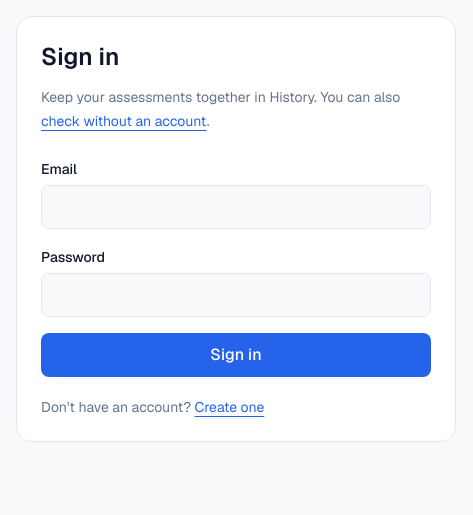
shows safe feedback on invalid login
The width and height of the screenshot is (473, 515).
Type "dummy@example.test" into the field labelled "Email".
click(236, 207); type("dummy@example.test")  # box [41, 185, 431, 229]
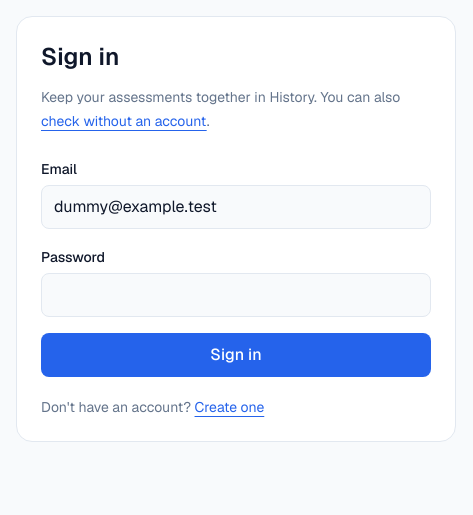
Type "safe-dummy-password" into the password field labelled "Password".
click(236, 295); type("safe-dummy-password")  # box [41, 273, 431, 317]
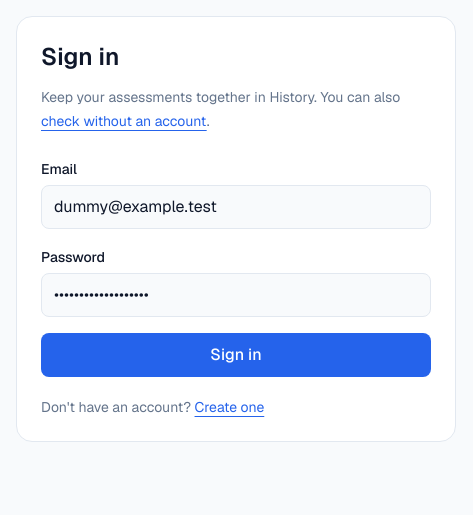
Submit the form, box [41, 157, 431, 377]
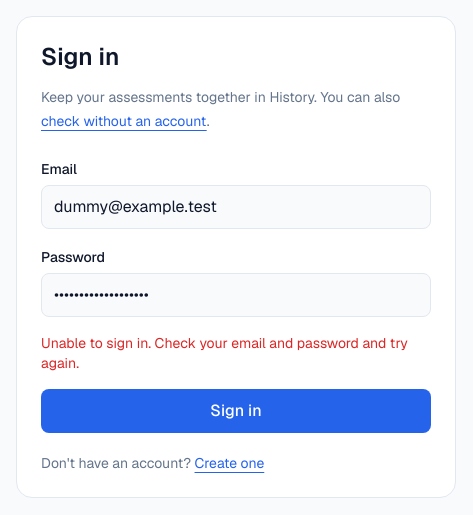
Now the text "Check your email and password" is shown, box [41, 334, 408, 372]
